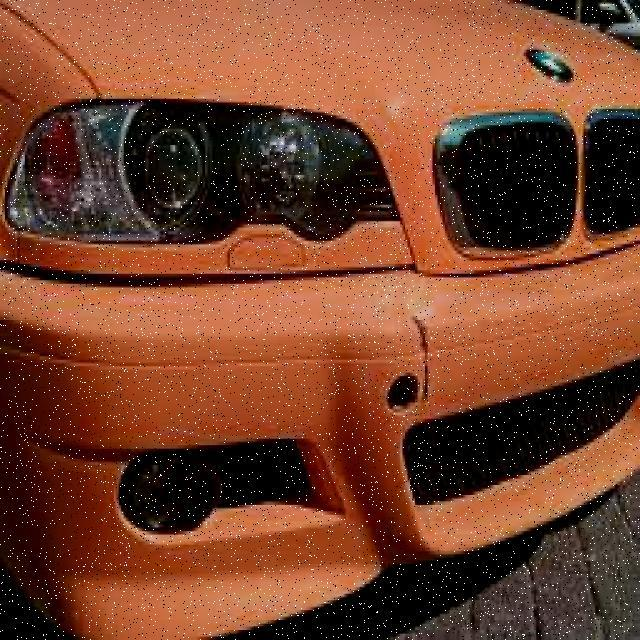car damage: (407, 307, 442, 412)
